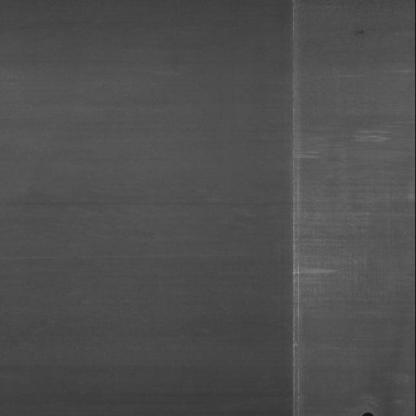welding_line: (273, 0, 318, 416)
